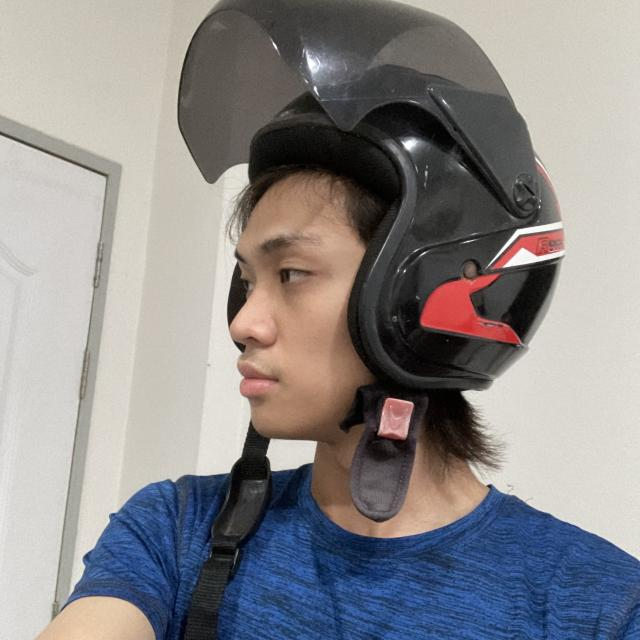illegal_helmet: (167, 0, 574, 640)
